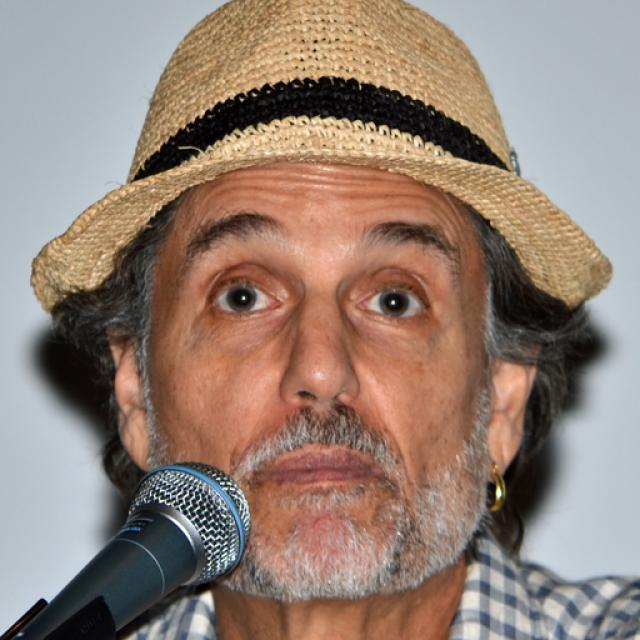surprise: (149, 155, 489, 602)
